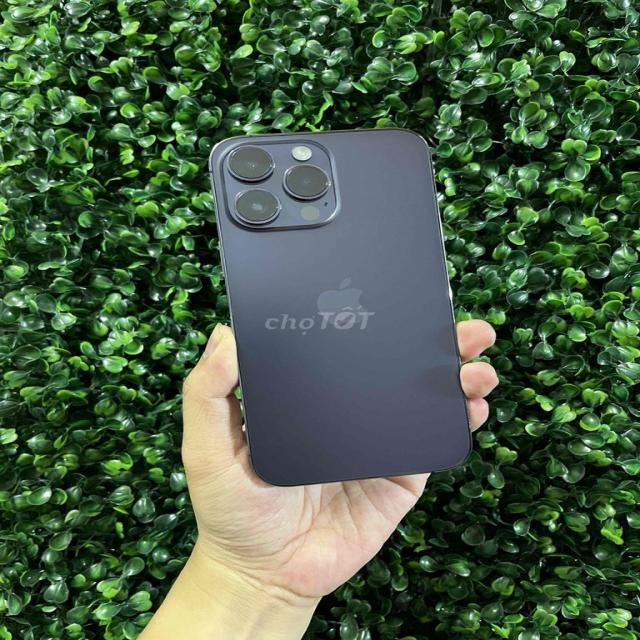gen_14: (214, 125, 482, 497)
